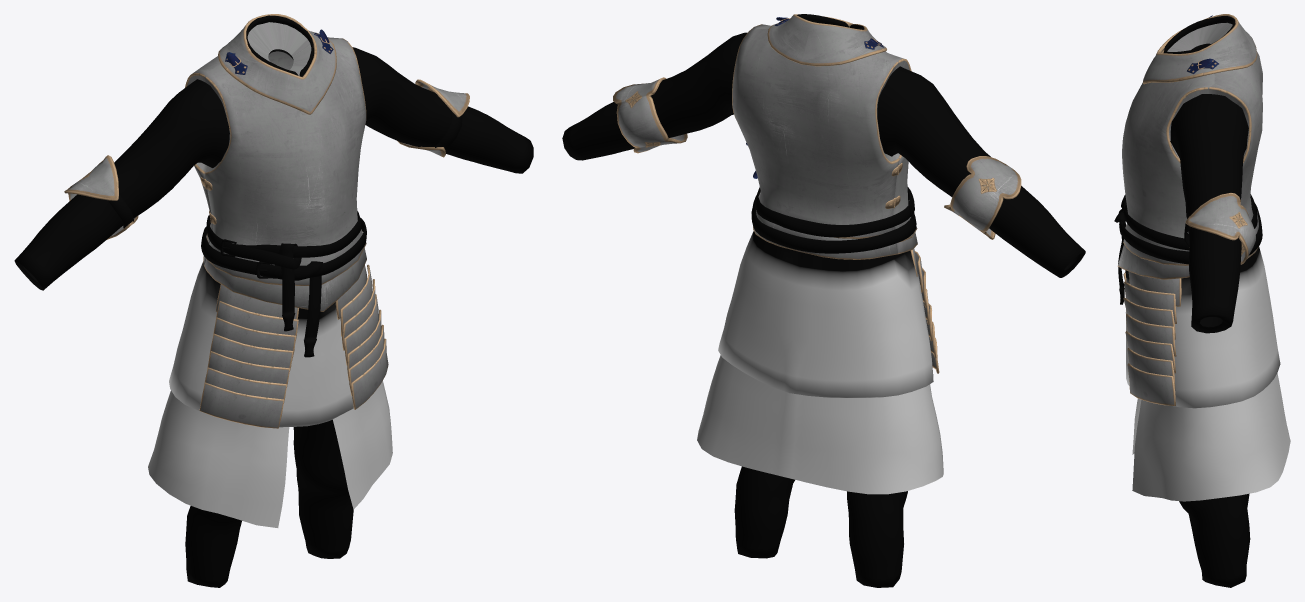
The model's file is swan_knight_armor_1a_t3.fbx.
3 views of the same model, side by side, from view 1: azimuth 30°, elevation 25°; view 2: azimuth 150°, elevation 25°; view 3: azimuth 270°, elevation 25° (orthographic). The views are drawn at different scales.
Visible parts, largest first — view 1: swan_knight_armor_1a_t3.0, swan_knight_armor_1a_t3.1; view 2: swan_knight_armor_1a_t3.0, swan_knight_armor_1a_t3.1; view 3: swan_knight_armor_1a_t3.0, swan_knight_armor_1a_t3.1.
Part boxes in pixels (x1,y1,x2,y2): swan_knight_armor_1a_t3.0: [14, 15, 533, 587]; swan_knight_armor_1a_t3.1: [64, 14, 469, 428]; swan_knight_armor_1a_t3.0: [562, 14, 1085, 587]; swan_knight_armor_1a_t3.1: [613, 14, 1021, 373]; swan_knight_armor_1a_t3.0: [1114, 16, 1290, 587]; swan_knight_armor_1a_t3.1: [1117, 14, 1262, 405].
Bounding box in the file's own units: 1.34 × 0.4125 × 1.37.
